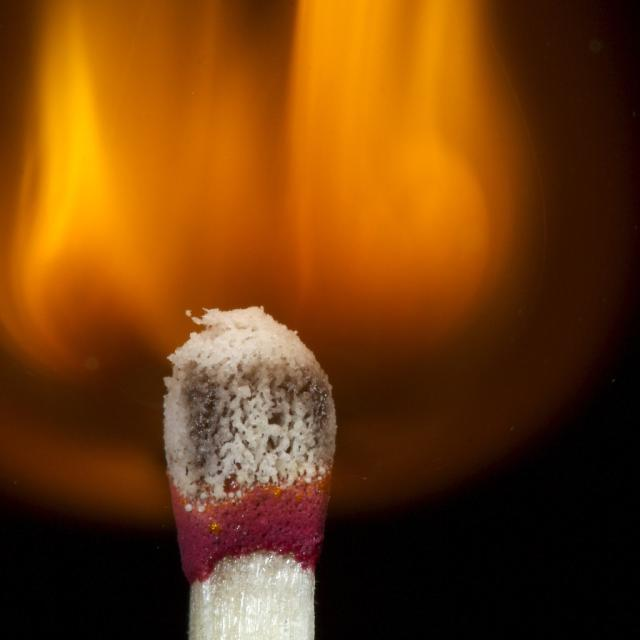Fire: (305, 44, 436, 306), (28, 142, 142, 332)
